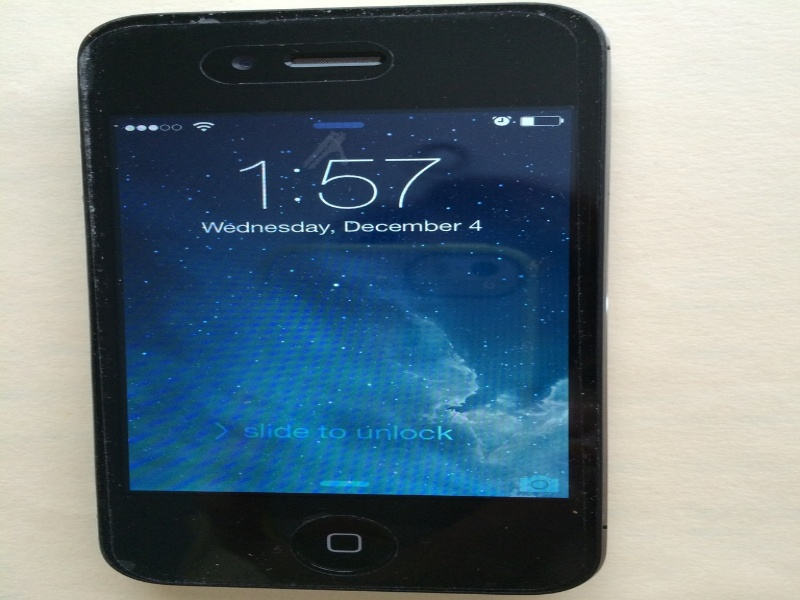cellphone: (72, 4, 627, 600)
